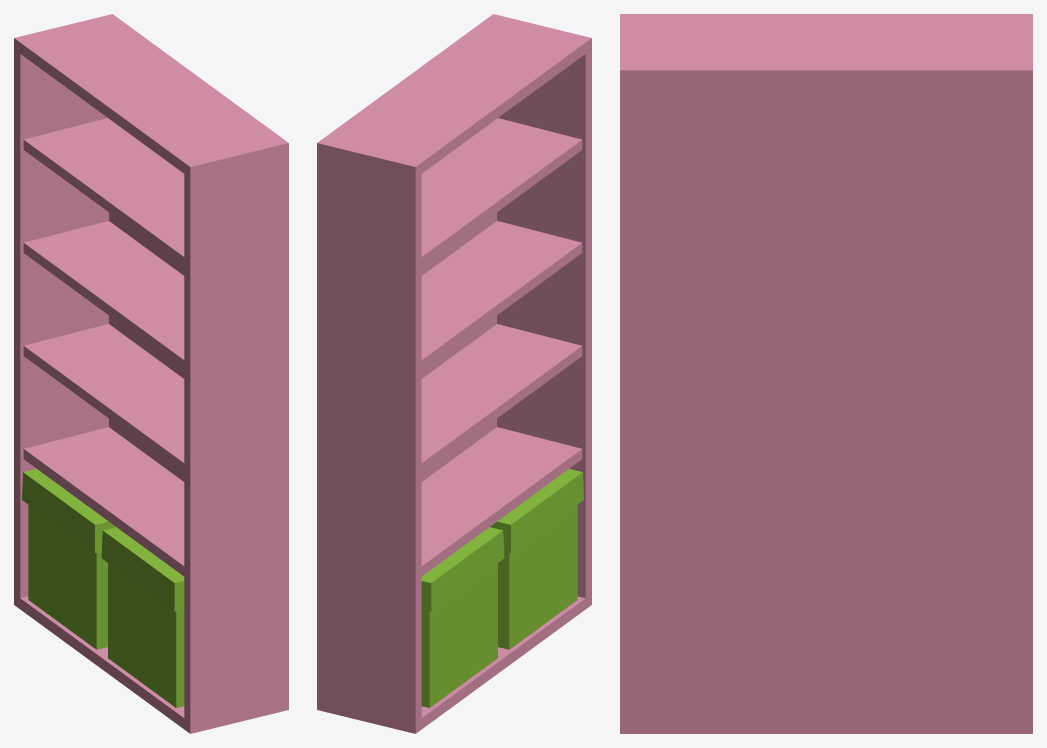
Rendered from furniture_decor_210001.glb.
3 renders of one model, left to right at view 1: azimuth 30°, elevation 25°; view 2: azimuth 150°, elevation 25°; view 3: azimuth 270°, elevation 25°, orthographic. The views are drawn at different scales.
Parts seen in each view (by area): view 1: furniture_decor_210001; view 2: furniture_decor_210001; view 3: furniture_decor_210001.
Boxes of the visible parts, box(x1,y1,x2,y2) form: furniture_decor_210001: box(14, 14, 288, 733); furniture_decor_210001: box(317, 14, 591, 733); furniture_decor_210001: box(620, 14, 1032, 733).
Bounding box in the file's own units: 0.3124 × 1.65 × 0.93.
1 material, 1 textured.
